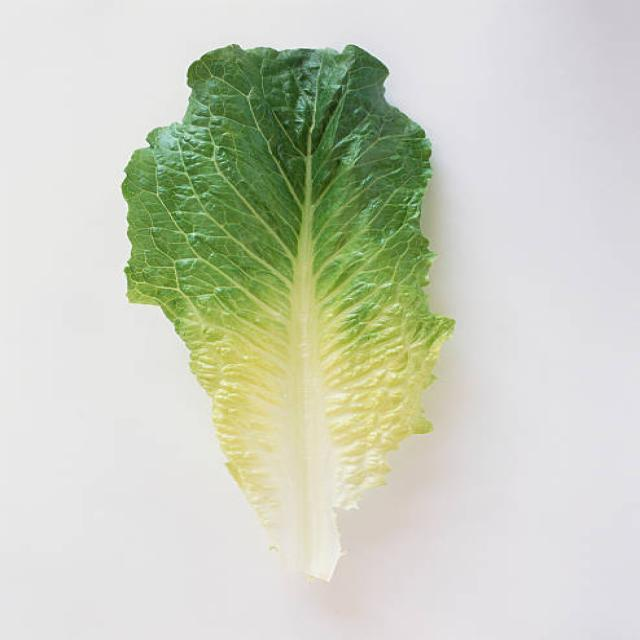Lettuce-Ready-to-Harvest: (119, 45, 456, 585)
